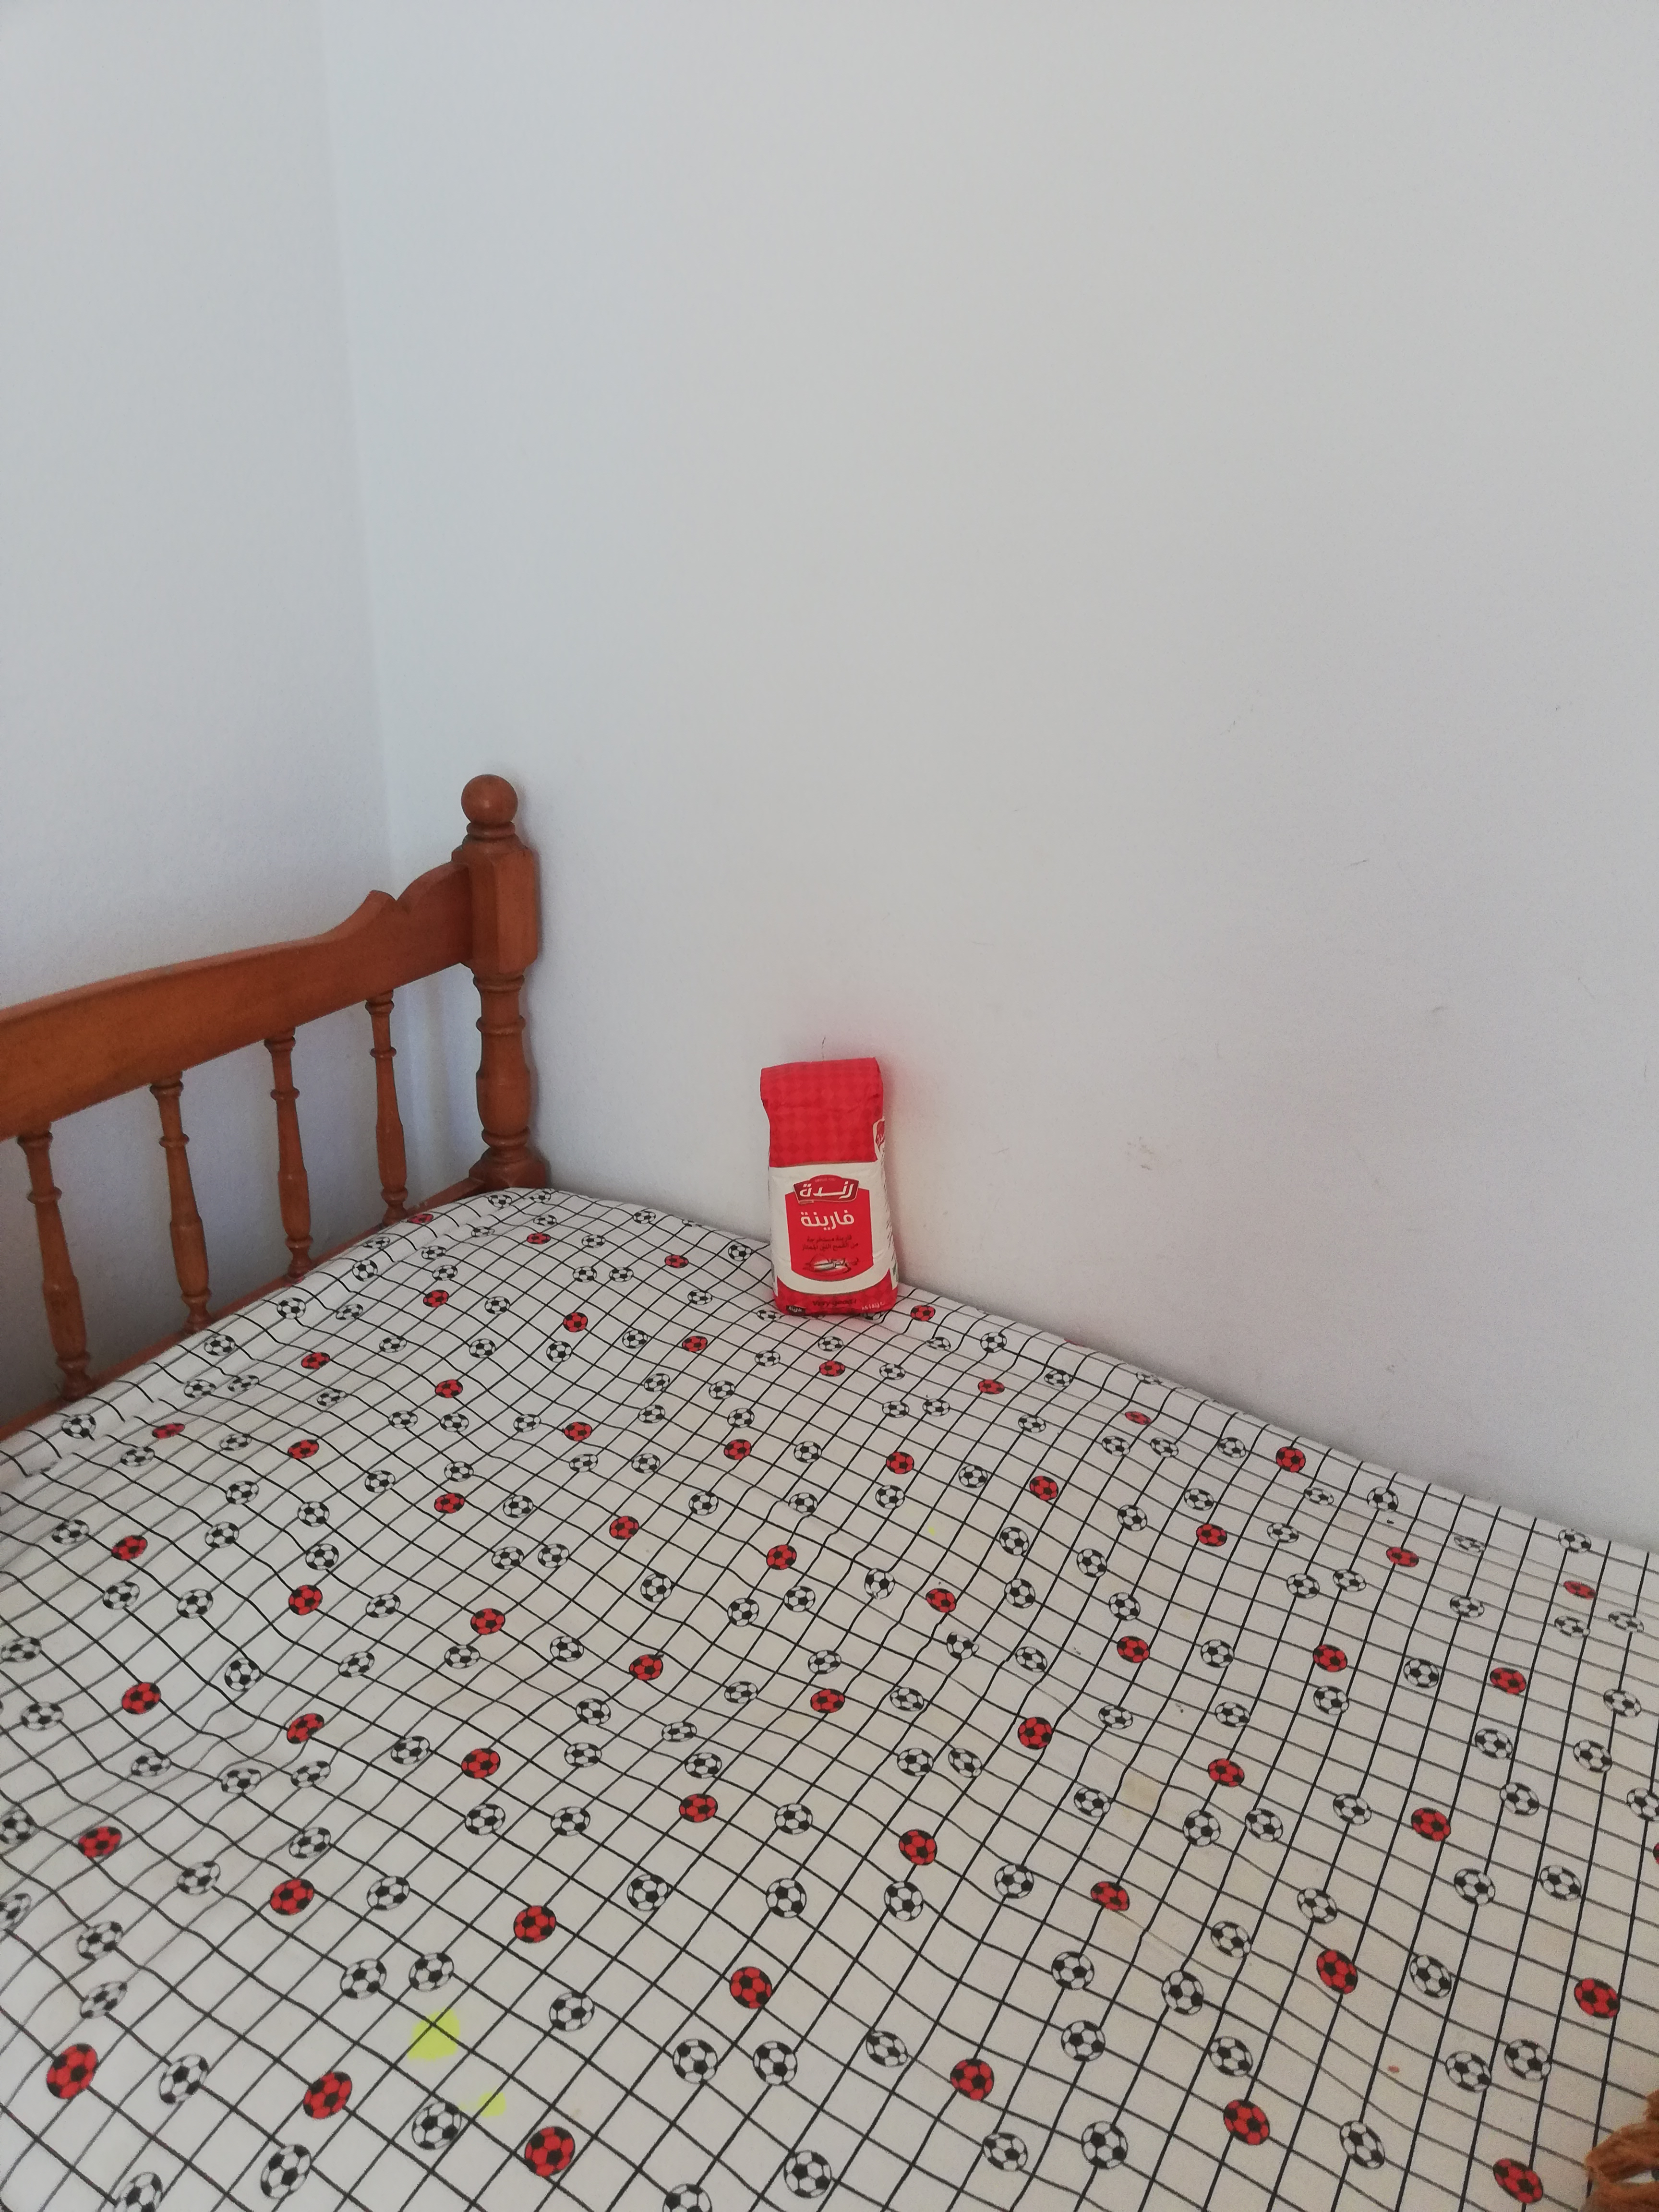Farine Randa: (744, 1057, 908, 1315)
